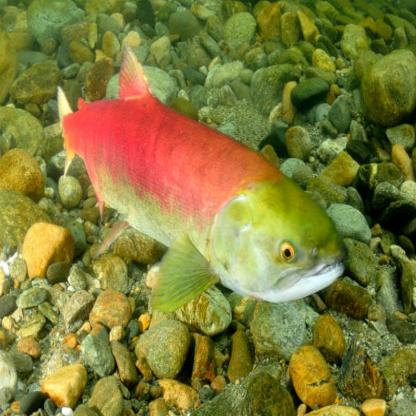sockeye: (51, 53, 338, 316)
